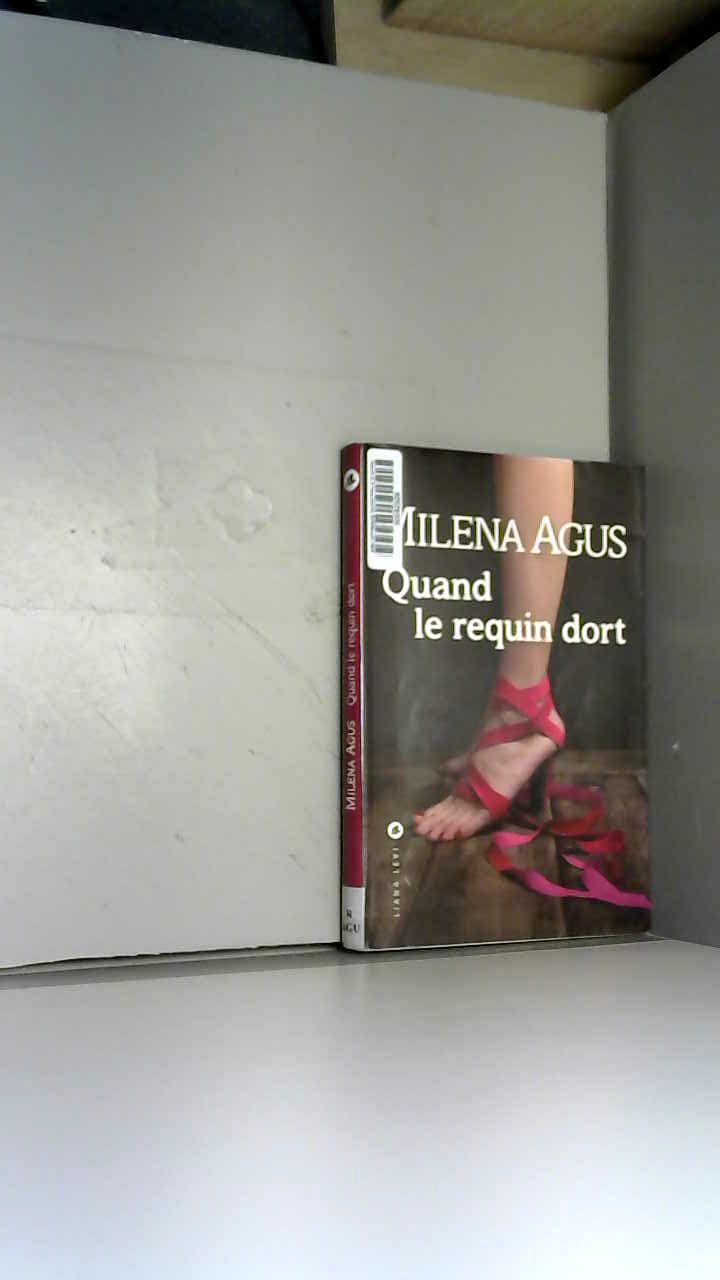book: (301, 411, 694, 988)
